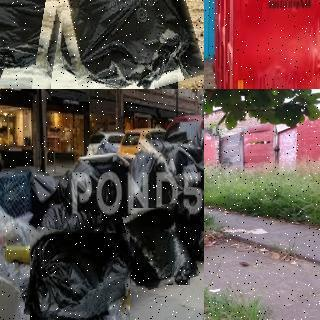Garbage: (37, 0, 192, 89), (27, 229, 133, 320), (0, 0, 78, 89), (127, 205, 195, 288), (193, 209, 204, 261)
